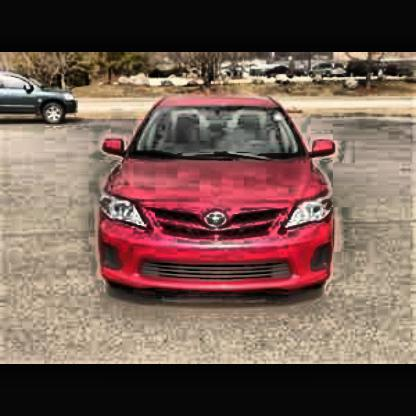Toyota Corolla Sedan 2012: (94, 93, 351, 303)
